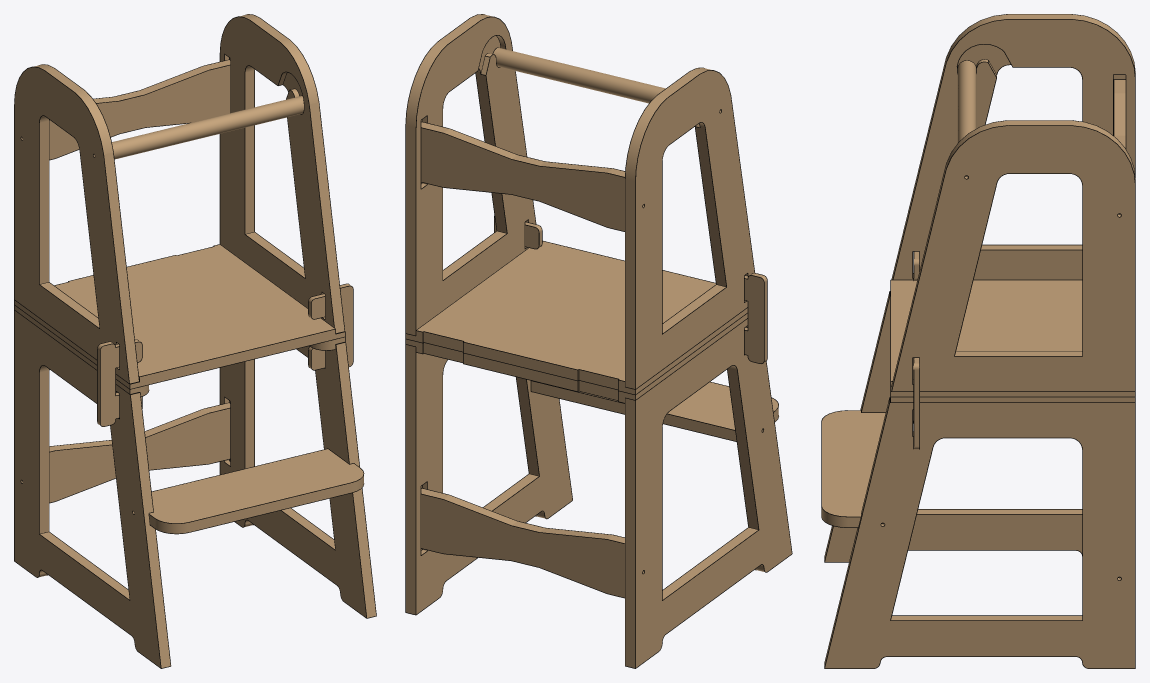
The model's file is torre-mesa.glb.
3 renders of one model, left to right at view 1: azimuth 30°, elevation 25°; view 2: azimuth 150°, elevation 25°; view 3: azimuth 270°, elevation 25°, orthographic. The views are drawn at different scales.
Parts seen in each view (by area): view 1: Cuerpo2, Cuerpo7, Cuerpo5, Cuerpo6, Cuerpo3, Cuerpo8, Cuerpo4, Cuerpo1, Cuerpo12, Cuerpo6_Bordes, Cuerpo2_Bordes, Cuerpo7_Bordes (+7 smaller); view 2: Cuerpo2, Cuerpo7, Cuerpo5, Cuerpo6, Cuerpo3, Cuerpo1, Cuerpo4, Cuerpo8, Cuerpo12, Cuerpo9, Cuerpo6_Bordes, Cuerpo2_Bordes (+7 smaller); view 3: Cuerpo3, Cuerpo6, Cuerpo7, Cuerpo5, Cuerpo2, Cuerpo8, Cuerpo3_Bordes, Cuerpo6_Bordes, Cuerpo7_Bordes, Cuerpo12, Cuerpo9, Cuerpo5_Bordes (+3 smaller).
Part boxes in pixels (<box>): Cuerpo2: <box>14,311,170,667</box>; Cuerpo7: <box>14,64,138,383</box>; Cuerpo5: <box>14,244,344,388</box>; Cuerpo6: <box>220,14,344,333</box>; Cuerpo3: <box>220,342,376,617</box>; Cuerpo8: <box>149,449,363,533</box>; Cuerpo4: <box>49,403,230,502</box>; Cuerpo1: <box>49,60,230,159</box>; Cuerpo12: <box>112,96,303,159</box>; Cuerpo6_Bordes: <box>219,14,344,333</box>; Cuerpo2_Bordes: <box>14,310,171,668</box>; Cuerpo7_Bordes: <box>14,64,139,383</box>; Cuerpo2: <box>625,319,791,667</box>; Cuerpo7: <box>625,68,754,388</box>; Cuerpo5: <box>406,241,747,394</box>; Cuerpo6: <box>406,14,535,335</box>; Cuerpo3: <box>406,345,572,614</box>; Cuerpo1: <box>421,122,625,231</box>; Cuerpo4: <box>421,488,624,597</box>; Cuerpo8: <box>531,381,778,441</box>; Cuerpo12: <box>493,47,665,103</box>; Cuerpo9: <box>406,313,747,402</box>; Cuerpo6_Bordes: <box>405,14,536,336</box>; Cuerpo2_Bordes: <box>625,318,792,668</box>; Cuerpo3: <box>824,400,1134,668</box>; Cuerpo6: <box>891,120,1135,391</box>; Cuerpo7: <box>892,14,1135,279</box>; Cuerpo5: <box>891,280,1134,396</box>; Cuerpo2: <box>824,294,1082,561</box>; Cuerpo8: <box>821,410,885,527</box>; Cuerpo3_Bordes: <box>824,397,1135,668</box>; Cuerpo6_Bordes: <box>891,120,1135,391</box>; Cuerpo7_Bordes: <box>891,14,1135,279</box>; Cuerpo12: <box>957,60,976,176</box>; Cuerpo9: <box>891,397,1134,402</box>; Cuerpo5_Bordes: <box>890,279,1135,397</box>.
Size of the model in its own units: 0.4688 by 0.9071 by 0.4757.
